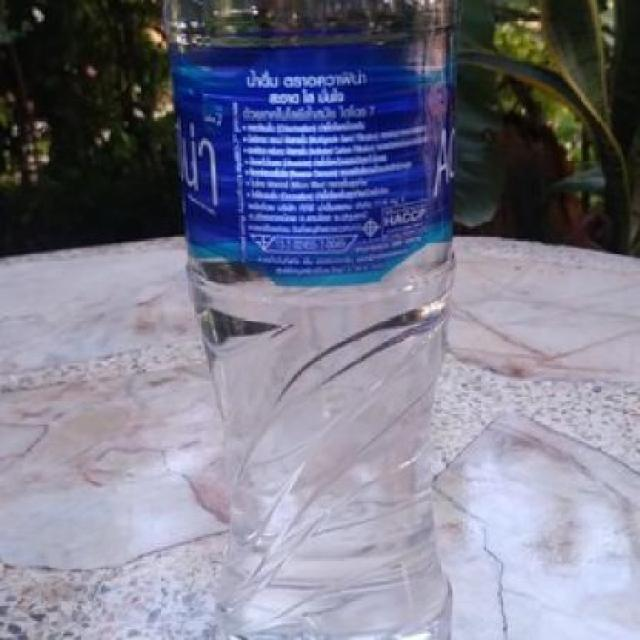bottle: (165, 0, 454, 638)
